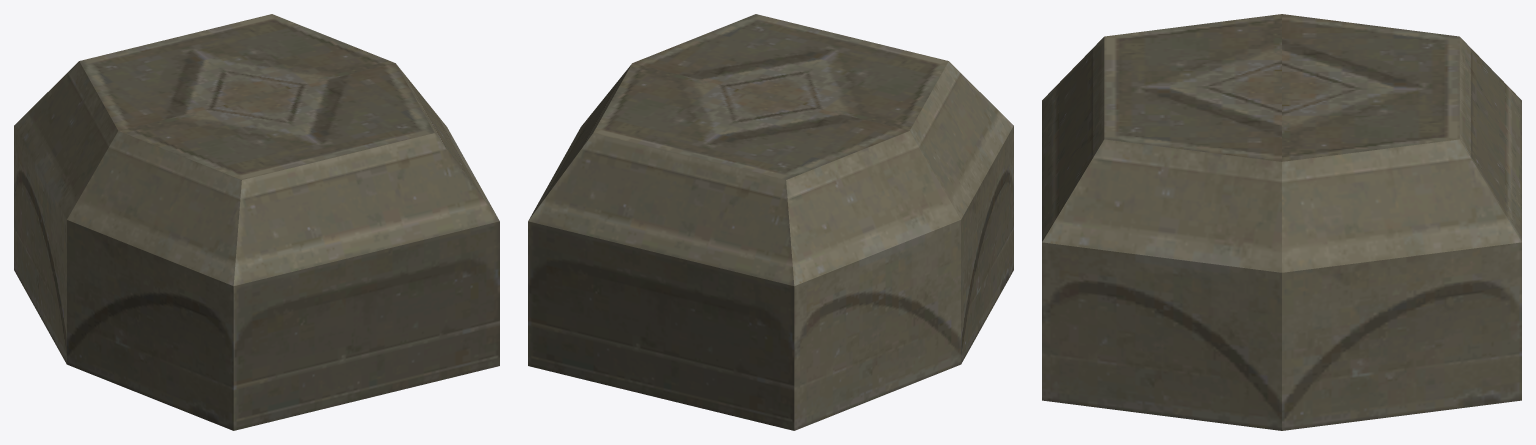
Rendered from bg_rad_kamen_column01a_sm_hhk.obj.
3 renders of one model, left to right at view 1: azimuth 30°, elevation 25°; view 2: azimuth 150°, elevation 25°; view 3: azimuth 270°, elevation 25°, orthographic. The views are drawn at different scales.
Visible parts, largest first — view 1: bg_rad_kamen_column01a_sm_hhk_0; view 2: bg_rad_kamen_column01a_sm_hhk_0; view 3: bg_rad_kamen_column01a_sm_hhk_0.
Part boxes in pixels (left/top/right/bottom): bg_rad_kamen_column01a_sm_hhk_0: left=14, top=14, right=499, bottom=430; bg_rad_kamen_column01a_sm_hhk_0: left=528, top=14, right=1013, bottom=430; bg_rad_kamen_column01a_sm_hhk_0: left=1042, top=14, right=1521, bottom=430.
Size of the model in its own units: 0.72 by 0.4 by 0.72.
1 material, 1 textured.
